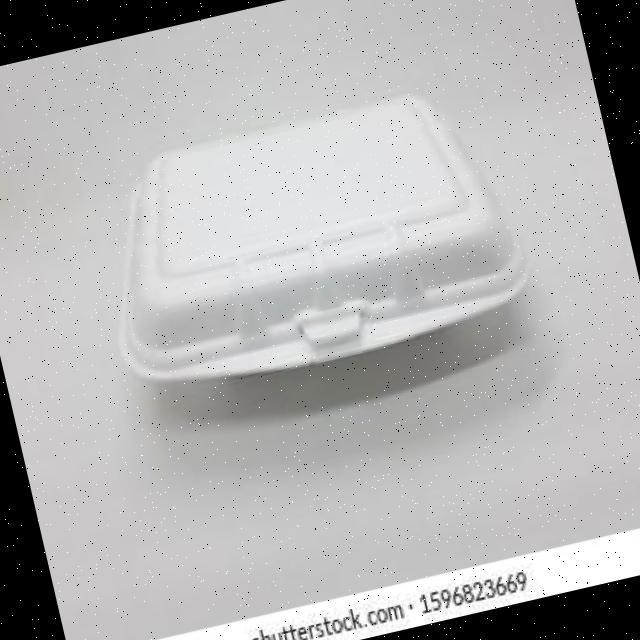styrofoam: (76, 72, 540, 410)
